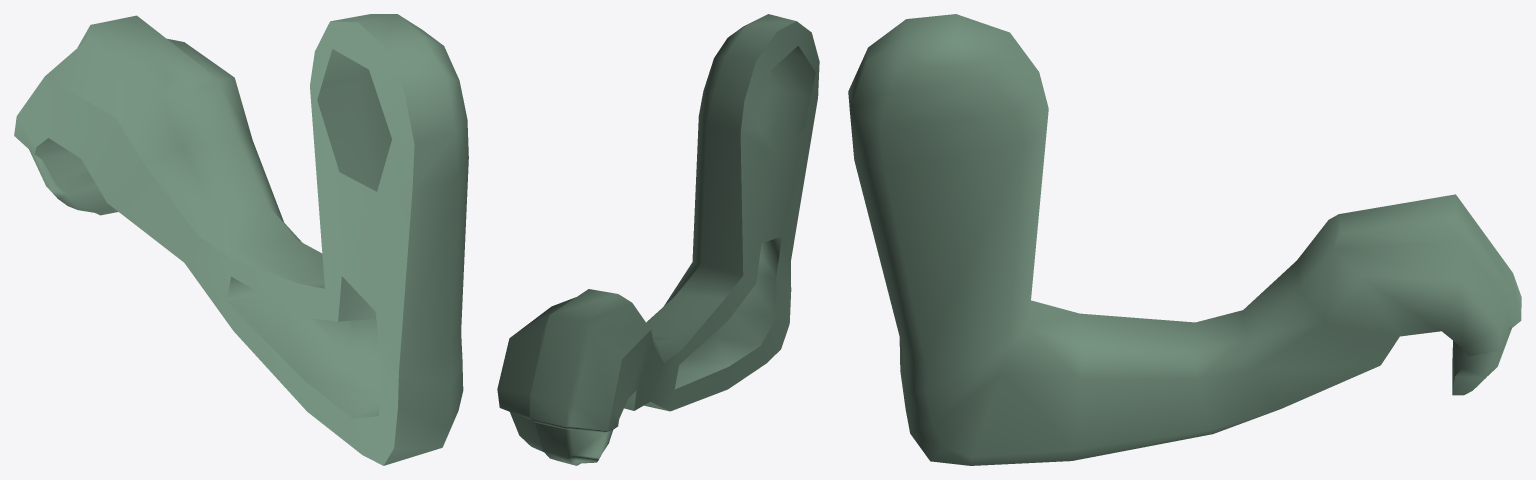
Rendered from BrazoDerecho.obj.
The picture shows the model from 3 angles, left to right: view 1: azimuth 30°, elevation 25°; view 2: azimuth 150°, elevation 25°; view 3: azimuth 270°, elevation 25°; orthographic projection. The views are drawn at different scales.
Parts seen in each view (by area): view 1: BrazoDerecho_polySurface6; view 2: BrazoDerecho_polySurface6; view 3: BrazoDerecho_polySurface6.
Boxes of the visible parts, <box> form: BrazoDerecho_polySurface6: <box>14,14,468,465</box>; BrazoDerecho_polySurface6: <box>497,14,819,465</box>; BrazoDerecho_polySurface6: <box>848,14,1521,465</box>.
Size of the model in its own units: 0.6242 by 1.67 by 2.43.
Materials: 1 (1 with a texture image).
